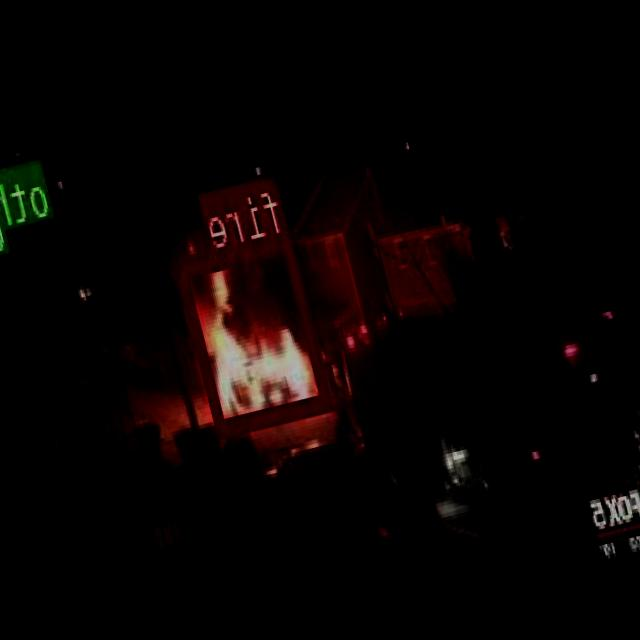fire: (176, 233, 333, 432)
